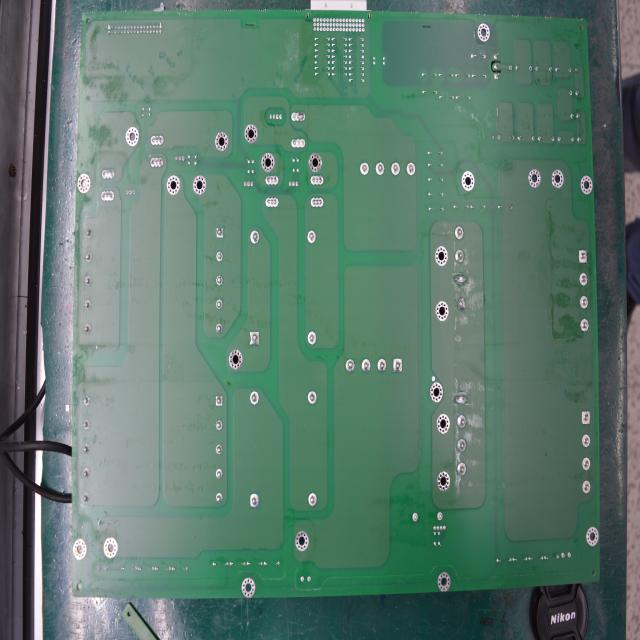slug: (454, 390, 470, 407), (455, 292, 466, 314), (453, 272, 468, 286)
